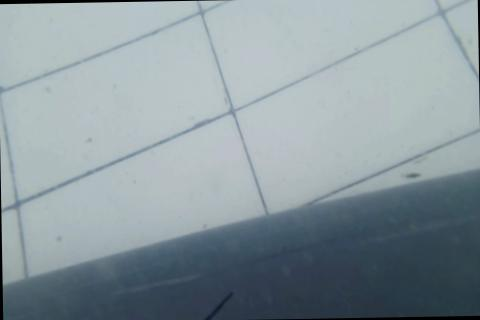keretakan: (203, 290, 235, 320)
